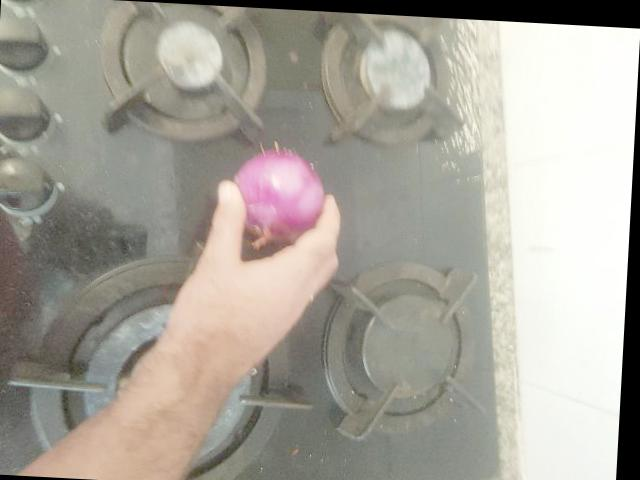onion: (396, 102, 482, 196)
